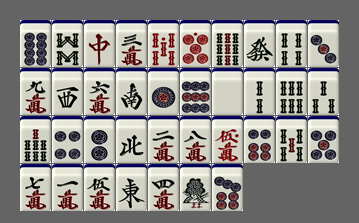0m: (212, 116, 243, 163)
0p: (180, 20, 211, 67)
0s: (148, 20, 179, 67)
1m: (52, 164, 83, 211)
1p: (148, 68, 179, 115)
1s: (180, 164, 211, 211)
1z: (116, 164, 147, 211)
2m: (148, 116, 179, 163)
2p: (84, 116, 115, 163)
2s: (244, 68, 275, 115)
2z: (116, 68, 147, 115)
3m: (116, 20, 147, 67)
3p: (308, 20, 339, 67)
3s: (308, 68, 339, 115)
3z: (52, 68, 83, 115)
4m: (148, 164, 179, 211)
4p: (52, 116, 83, 163)
4s: (276, 20, 307, 67)
4z: (116, 116, 147, 163)
5m: (84, 164, 115, 211)
5p: (308, 116, 339, 163)
5s: (276, 116, 307, 163)
5z: (212, 68, 243, 115)
6m: (84, 68, 115, 115)
6p: (244, 116, 275, 163)
6s: (276, 68, 307, 115)
6z: (244, 20, 275, 67)
7m: (20, 164, 51, 211)
7p: (212, 164, 243, 211)
7s: (20, 116, 51, 163)
7z: (84, 20, 115, 67)
8m: (180, 116, 211, 163)
8p: (20, 20, 51, 67)
8s: (52, 20, 83, 67)
9m: (20, 68, 51, 115)
9p: (180, 68, 211, 115)
9s: (212, 20, 243, 67)
